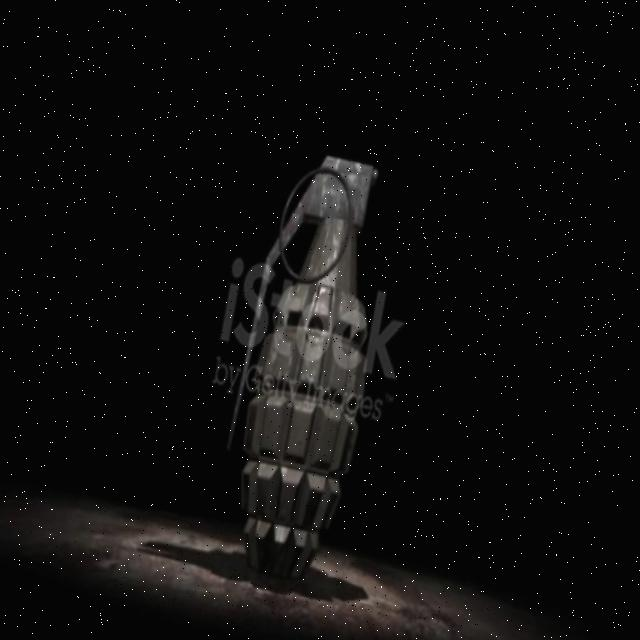grenade: (209, 134, 412, 581)
